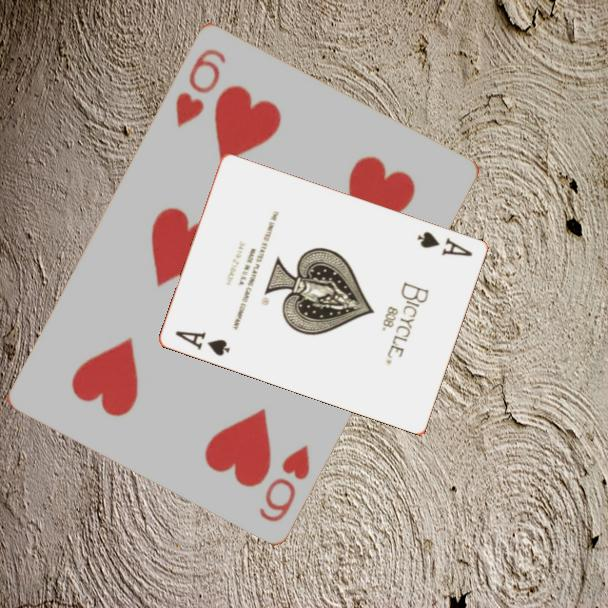h06: (171, 45, 229, 130), (255, 440, 313, 525)
s01: (414, 227, 476, 259), (172, 327, 233, 359)
